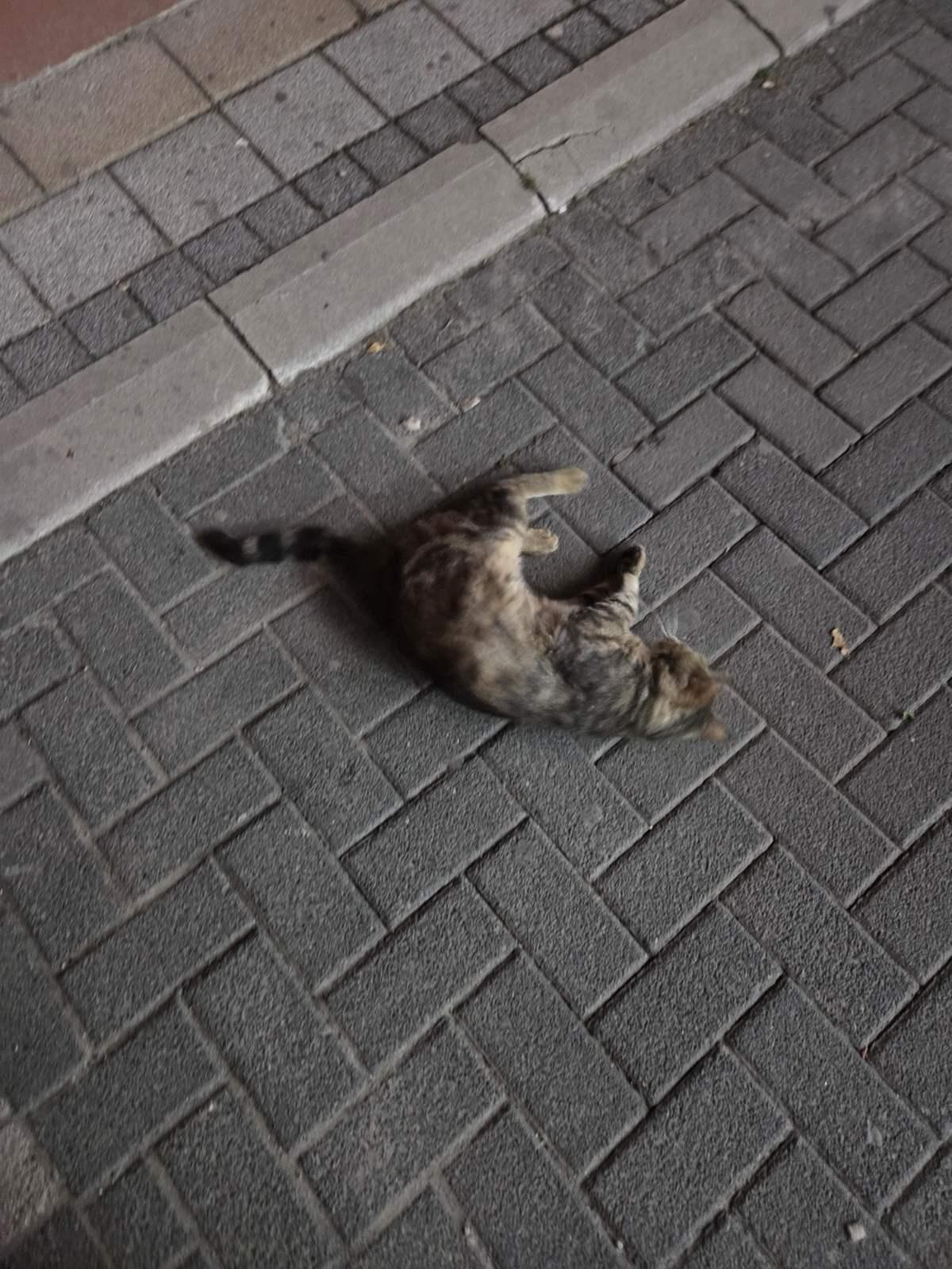macka: (194, 464, 733, 749)
